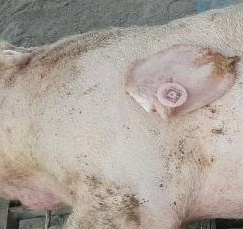text: (144, 67, 197, 117)
